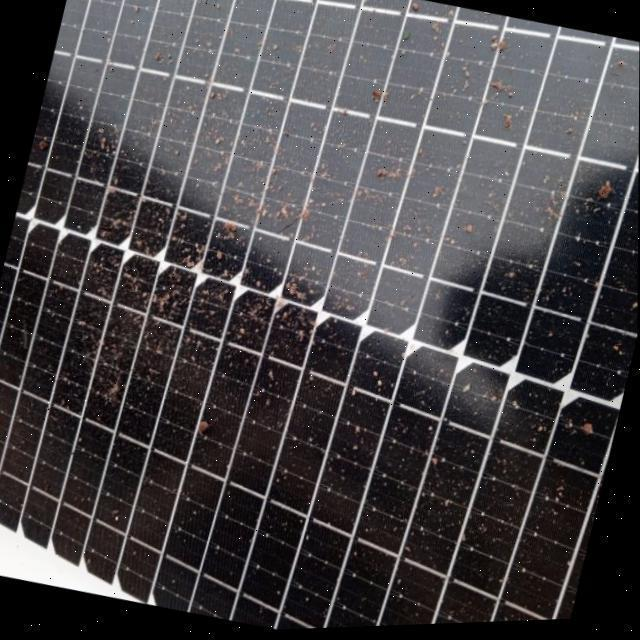Surface Contaminant: (5, 0, 640, 628)
